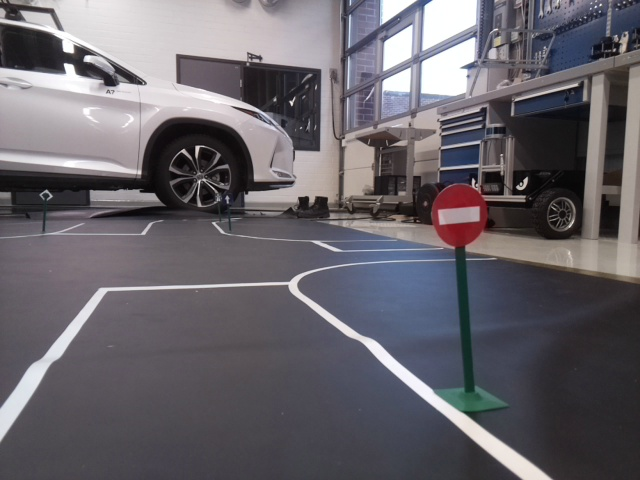NoEntry: (430, 185, 488, 249)
OneWay: (223, 193, 233, 205)
